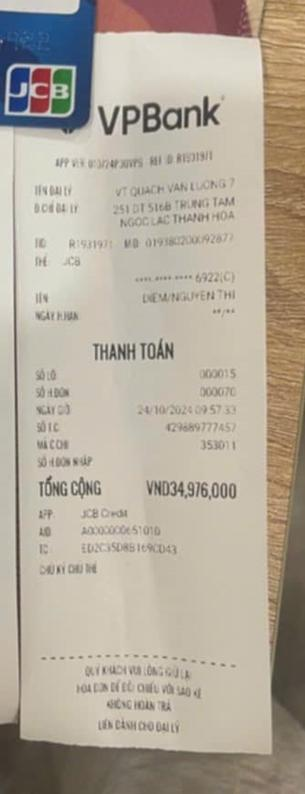receipt: (17, 84, 251, 505)
